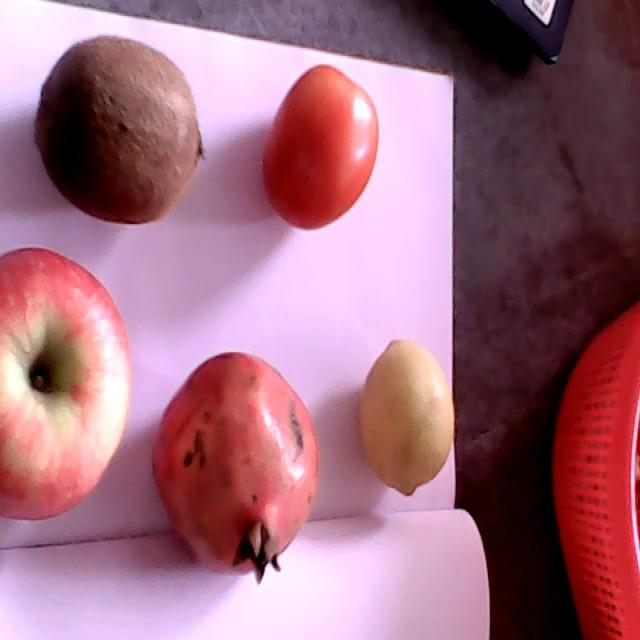apple: (1, 247, 133, 522)
kiwi: (33, 35, 204, 225)
lemon: (360, 337, 455, 498)
pomegranate: (153, 350, 321, 587)
tomato: (262, 64, 379, 230)
